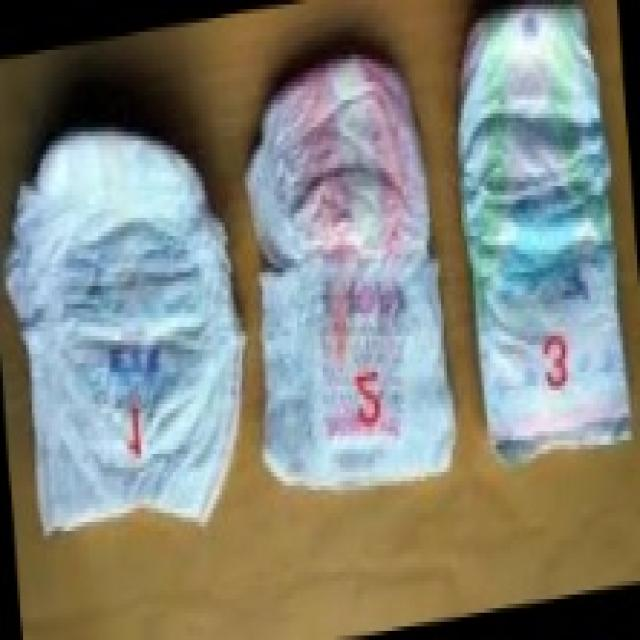B3: (266, 266, 445, 482), (254, 63, 421, 258), (481, 279, 624, 451)
